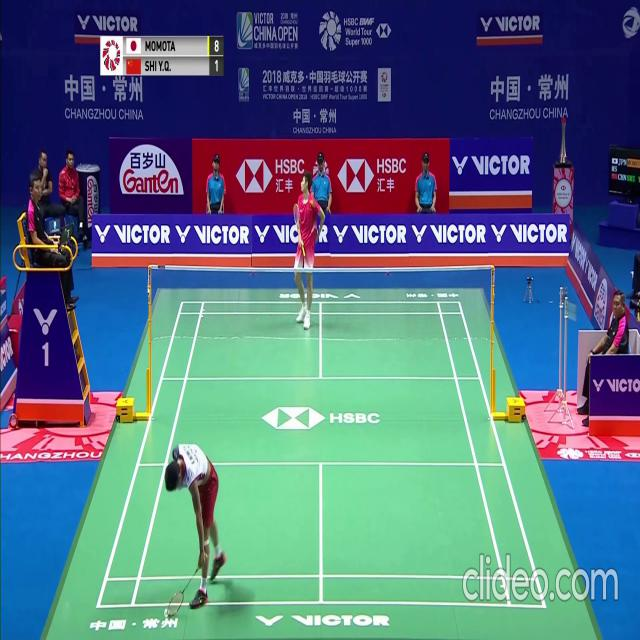Shuttlecock: (163, 608, 168, 616)
